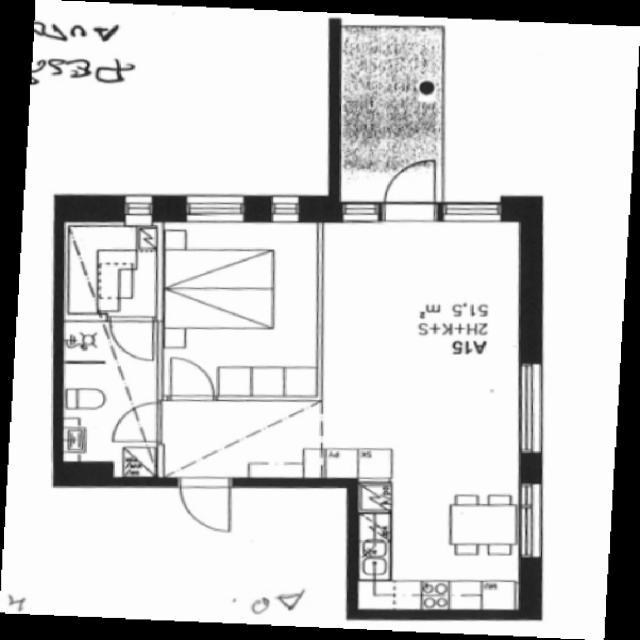door: (174, 476, 237, 538), (376, 156, 441, 213), (158, 351, 220, 405), (105, 312, 162, 364), (109, 400, 164, 449)
window: (508, 356, 552, 462), (512, 476, 550, 568), (175, 182, 258, 224), (434, 195, 512, 227), (115, 187, 161, 222), (264, 188, 308, 224), (335, 199, 384, 225)
zone: (317, 206, 532, 490), (158, 210, 326, 398), (350, 487, 528, 614), (337, 23, 441, 200), (155, 398, 327, 482), (65, 216, 156, 361), (61, 360, 161, 482)
